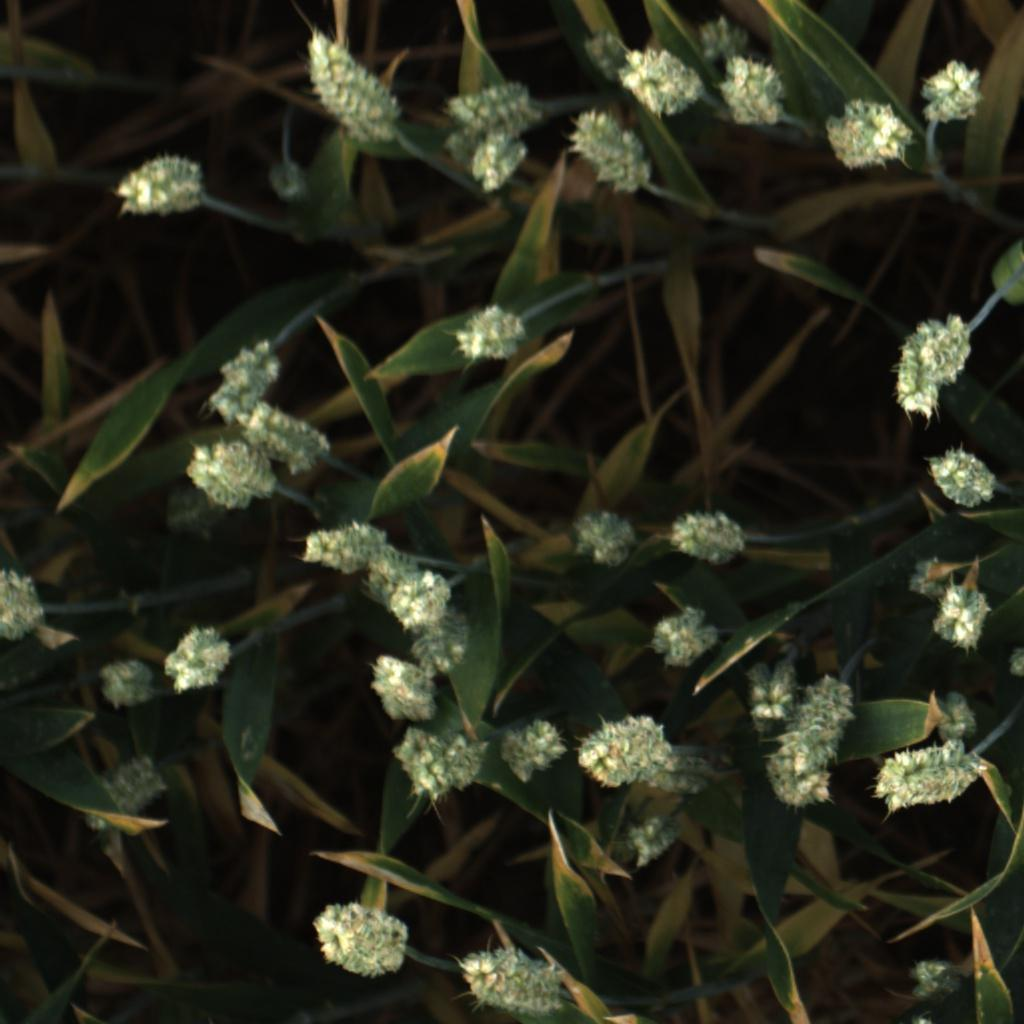0-0: (298, 26, 403, 143), (887, 314, 977, 421), (457, 940, 572, 1015), (307, 900, 411, 982), (79, 751, 166, 845), (565, 106, 656, 194), (873, 743, 979, 817), (395, 725, 485, 811), (180, 441, 276, 521), (200, 336, 279, 432), (571, 709, 668, 786), (618, 41, 703, 122), (112, 152, 203, 227), (779, 683, 856, 771), (823, 101, 912, 177), (400, 604, 479, 687), (238, 397, 328, 469), (159, 619, 238, 698), (719, 49, 792, 133), (439, 71, 535, 133), (448, 304, 535, 371), (495, 708, 568, 787), (299, 512, 390, 575), (665, 502, 749, 567), (915, 56, 989, 128), (561, 500, 638, 569), (364, 652, 436, 725), (924, 443, 998, 512), (729, 658, 798, 730), (652, 602, 716, 677), (760, 758, 834, 822), (388, 569, 458, 636), (461, 133, 527, 199), (930, 581, 989, 652), (1, 556, 47, 644), (88, 655, 160, 711), (643, 748, 716, 800), (689, 10, 756, 66), (257, 157, 321, 209), (903, 953, 967, 1005), (364, 535, 414, 600), (619, 812, 678, 866), (929, 691, 981, 746), (583, 24, 627, 85), (906, 550, 949, 600), (1011, 649, 1024, 677)
